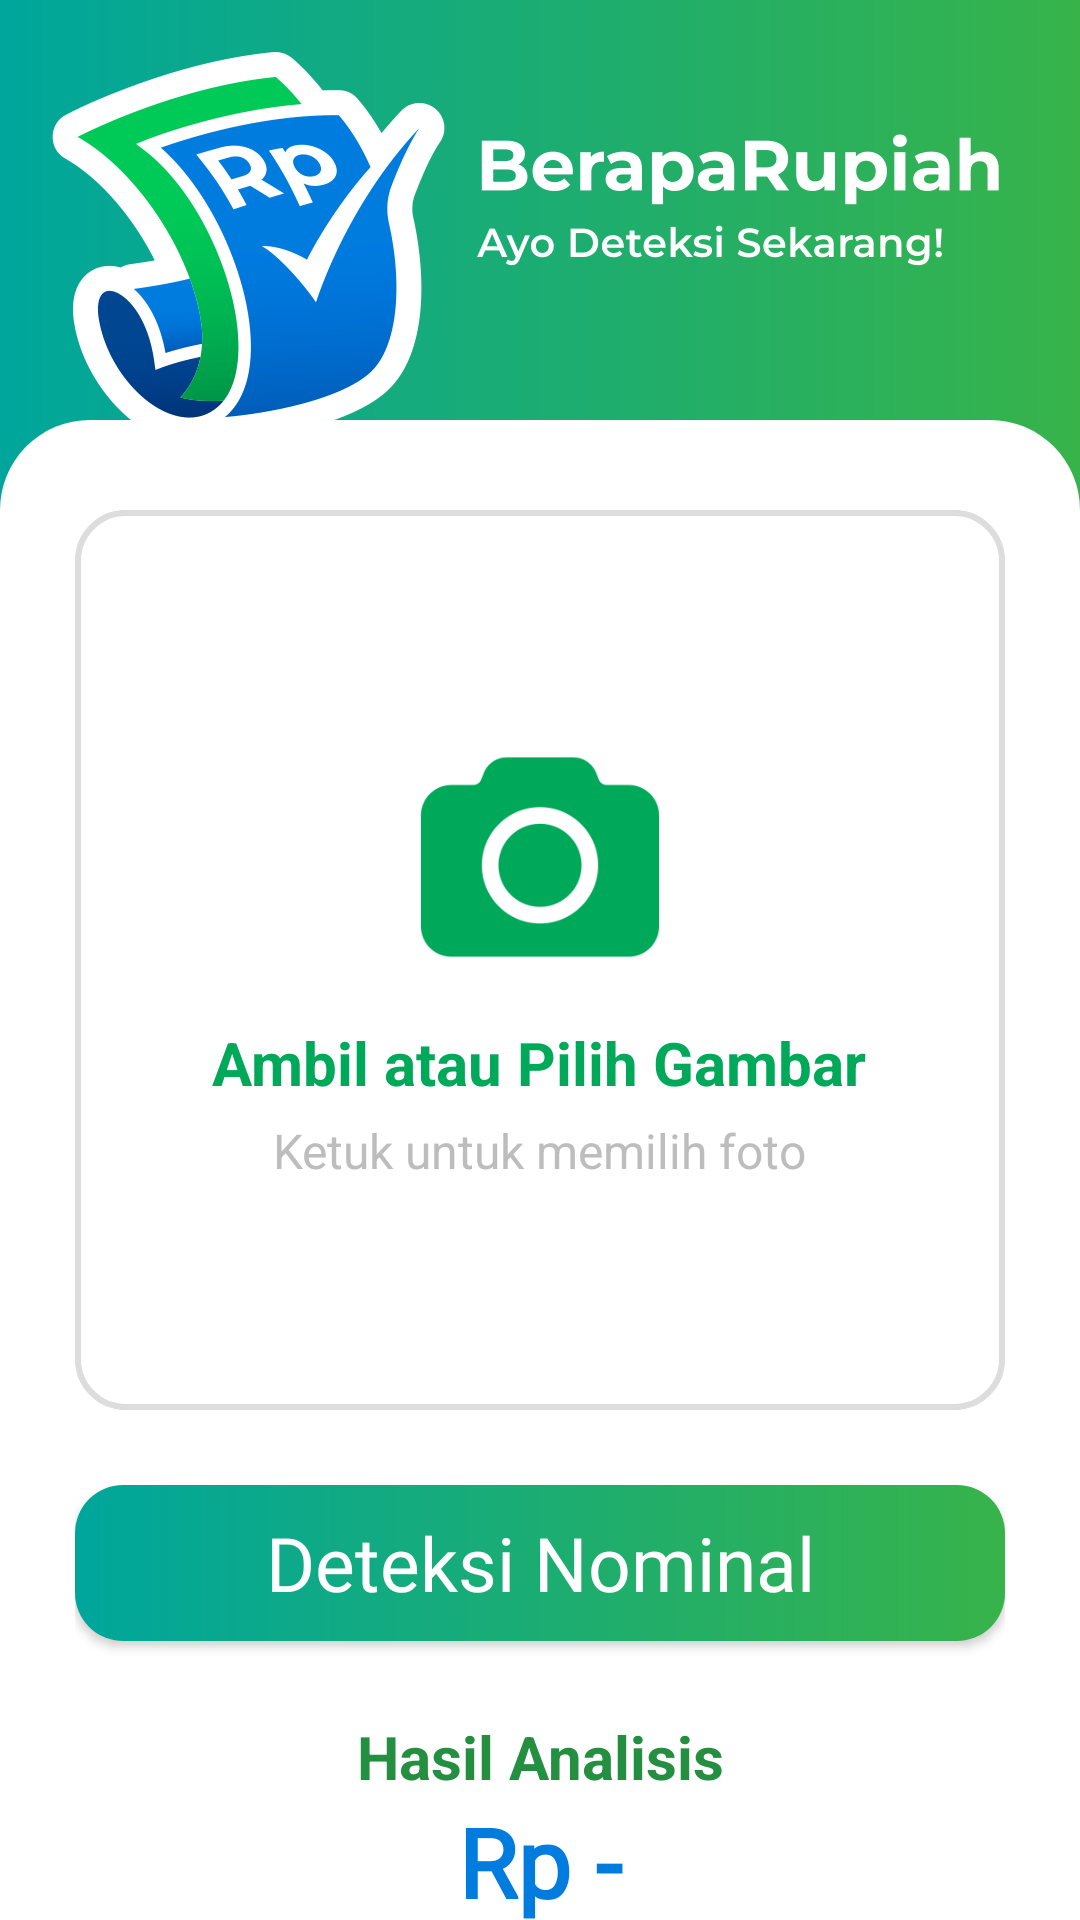

Locate icon controls on the screen. Image size 1080 × 1920, boxes as (x1, y1, x2, y2).
Icon Camera: (421, 757, 659, 957)
